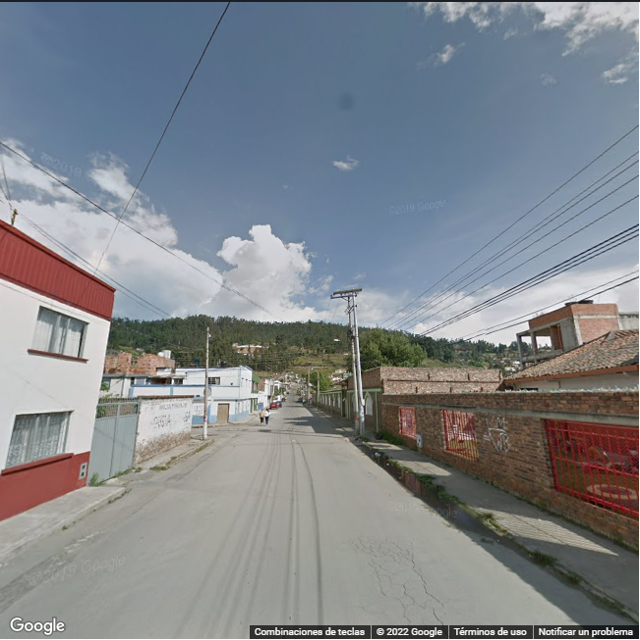D00: (402, 554, 449, 612), (369, 554, 386, 598), (398, 581, 419, 608)
